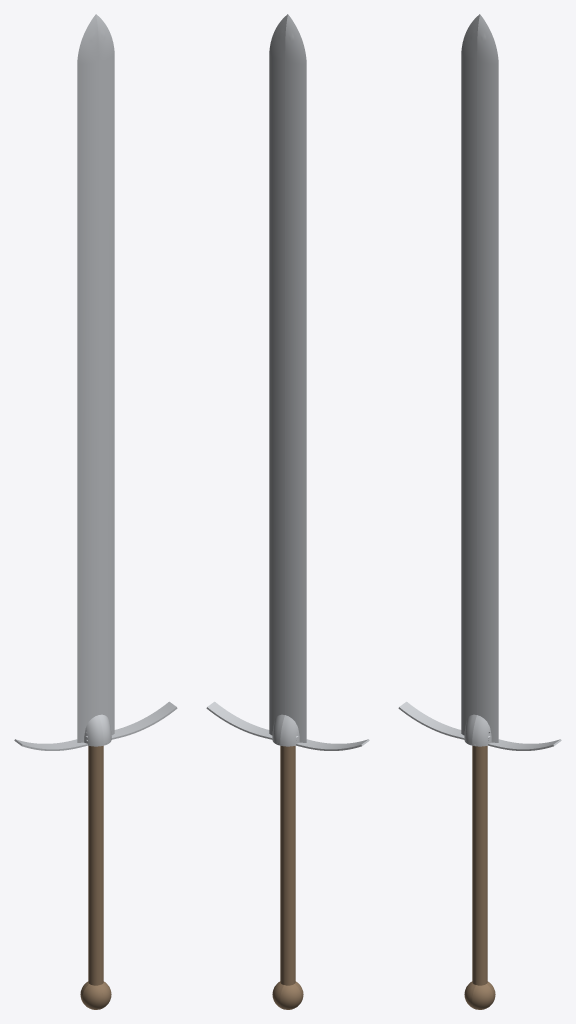
Rendered from weapon_echo_blade_2.glb.
3 views of the same model, side by side, from view 1: azimuth 30°, elevation 25°; view 2: azimuth 150°, elevation 25°; view 3: azimuth 330°, elevation 25° (orthographic).
Visible parts, largest first — view 1: echo_blade_2; view 2: echo_blade_2; view 3: echo_blade_2.
Boxes of the visible parts, x1,y1,x2,y2 form: echo_blade_2: [14, 14, 177, 1009]; echo_blade_2: [206, 14, 369, 1009]; echo_blade_2: [398, 14, 561, 1009].
Bounding box in the file's own units: 0.1884 × 1.15 × 0.0326.
